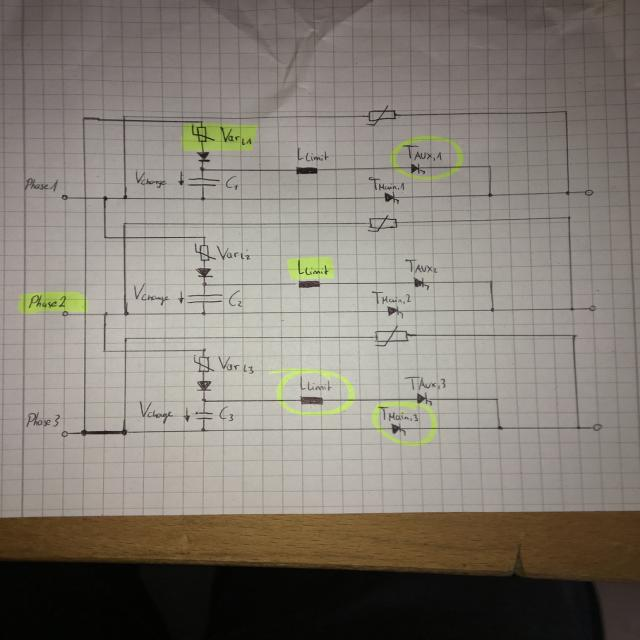capacitor: (185, 292, 223, 304), (185, 176, 221, 187), (192, 410, 214, 420)
crossover: (80, 194, 89, 201), (80, 311, 89, 317), (120, 234, 128, 240), (122, 348, 128, 353), (121, 118, 127, 122)
diode: (194, 266, 213, 278), (194, 380, 212, 391), (195, 151, 211, 162)
inductor: (298, 395, 324, 405), (294, 280, 321, 288), (294, 166, 318, 174)
junction: (77, 427, 90, 437), (118, 428, 130, 437), (569, 332, 578, 340), (100, 194, 109, 202), (198, 426, 208, 433), (197, 195, 208, 201), (200, 280, 208, 288), (101, 310, 110, 317), (567, 305, 576, 312), (495, 424, 504, 431), (485, 191, 494, 198), (120, 194, 130, 200), (488, 306, 496, 313), (120, 220, 128, 227), (101, 234, 109, 241), (564, 189, 572, 196), (121, 310, 129, 316), (200, 310, 208, 316), (492, 396, 500, 402), (573, 424, 581, 430), (564, 214, 572, 220), (562, 108, 570, 114), (200, 234, 208, 240), (200, 397, 207, 403), (122, 335, 129, 341), (80, 115, 87, 121), (198, 166, 205, 172), (199, 347, 207, 352), (101, 347, 107, 353), (484, 164, 492, 168), (487, 280, 494, 284), (121, 114, 127, 118), (198, 119, 204, 123)
terminal: (591, 423, 603, 431), (583, 188, 594, 196), (59, 429, 69, 437), (587, 304, 596, 312), (60, 193, 68, 201), (60, 310, 69, 316)
text: (138, 399, 174, 424), (132, 282, 170, 305), (401, 144, 443, 162), (217, 354, 254, 374), (376, 405, 419, 422), (217, 126, 252, 146), (134, 169, 168, 188), (403, 375, 446, 390), (370, 289, 412, 304), (25, 410, 60, 428), (296, 258, 329, 276), (215, 244, 251, 260), (366, 176, 404, 191), (403, 258, 438, 274), (26, 294, 66, 308), (298, 375, 332, 391), (296, 146, 330, 162), (22, 177, 58, 192), (228, 290, 244, 308), (218, 405, 234, 422), (224, 174, 238, 190)
thyristor: (412, 276, 430, 288), (415, 391, 432, 403), (386, 305, 404, 316), (410, 162, 426, 174), (391, 423, 406, 434), (384, 192, 399, 202)
